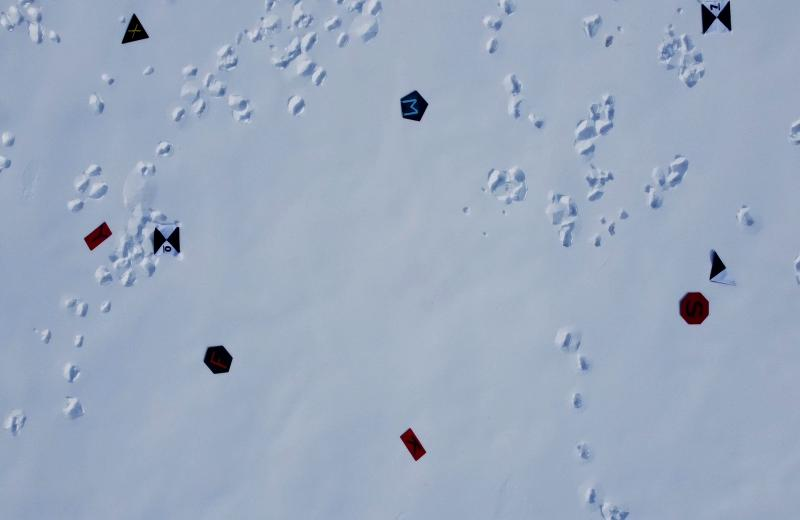Hexagon: (201, 340, 235, 378)
Octagon: (677, 282, 710, 328)
Pentagon: (397, 83, 431, 128)
Rectangle: (76, 216, 117, 256), (396, 423, 428, 467)
Triangle: (112, 8, 152, 47)
